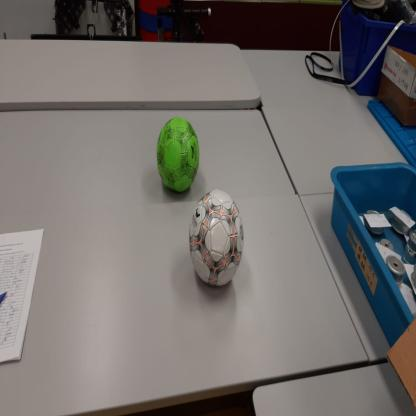ball: (189, 189, 244, 290), (158, 116, 199, 195)
